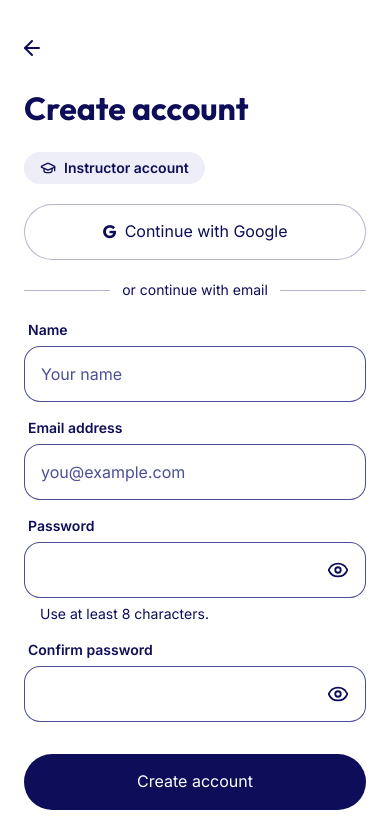
it: phone sign-up screen › catches passwords that do not match
This screenshot has width=390, height=837.
Type "Ada" into the field labelled "Name" at (195, 374), box 24,346 -> 366,402
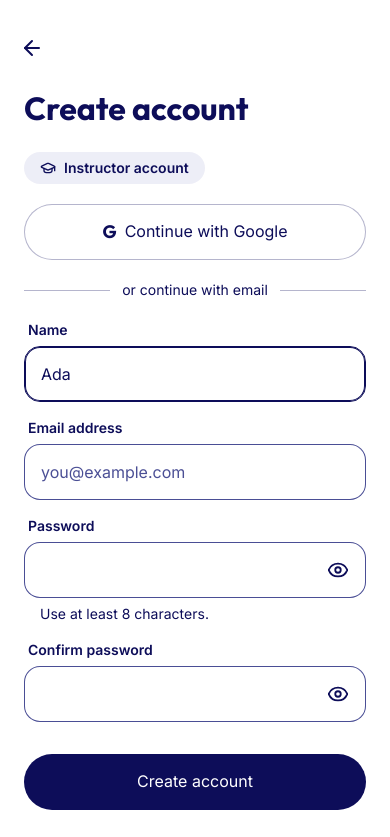
Type "ada@example.com" into the field labelled "Email address" at (195, 472), box 24,444 -> 366,500
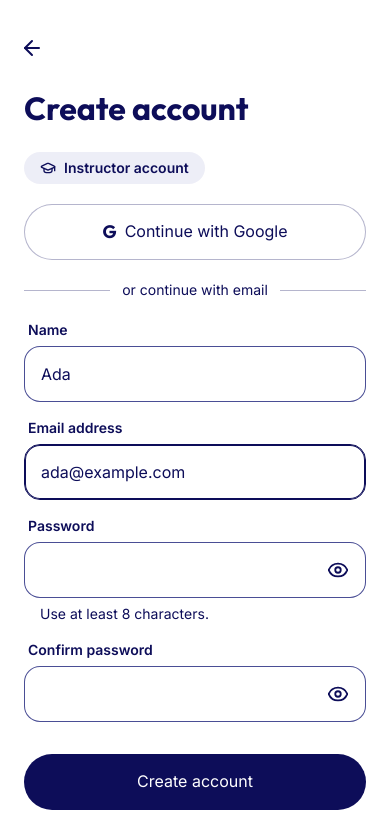
Type "password123" into the password field labelled "Password" at (195, 570), box 24,542 -> 366,598
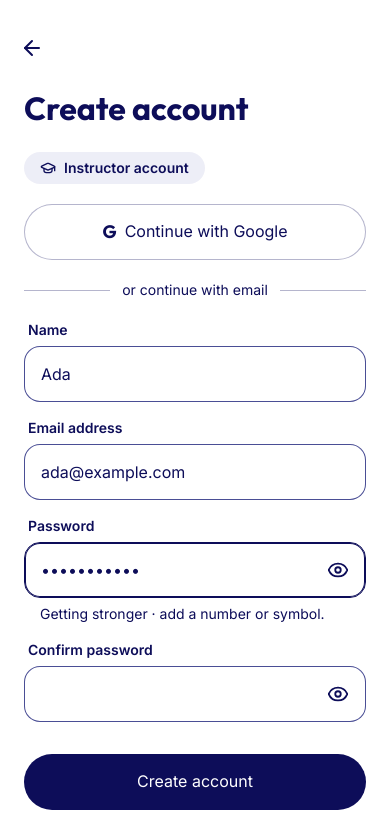
Type "password124" into the password field labelled "Confirm password" at (195, 694), box 24,666 -> 366,722
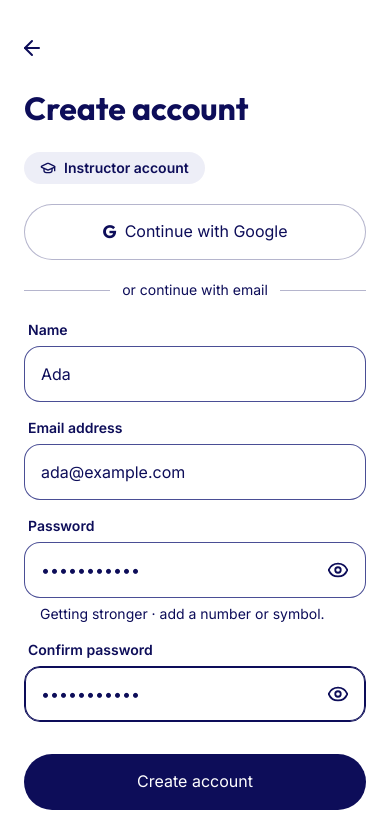
Click the button "Create account" at (195, 782), box 24,754 -> 366,810
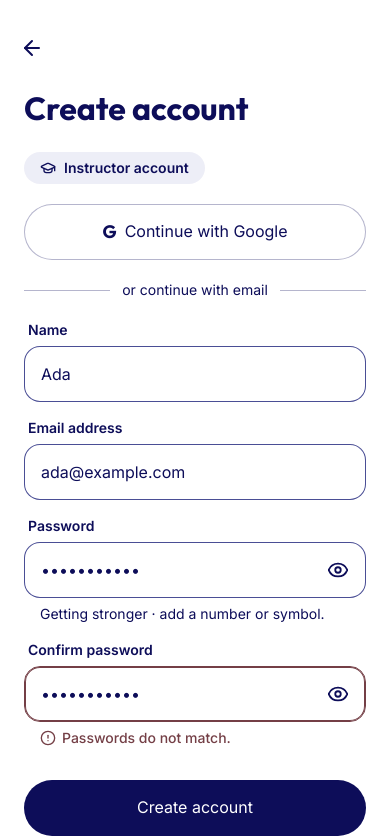
Check: the text "Passwords do not match." is shown, box 40,729 -> 231,746
